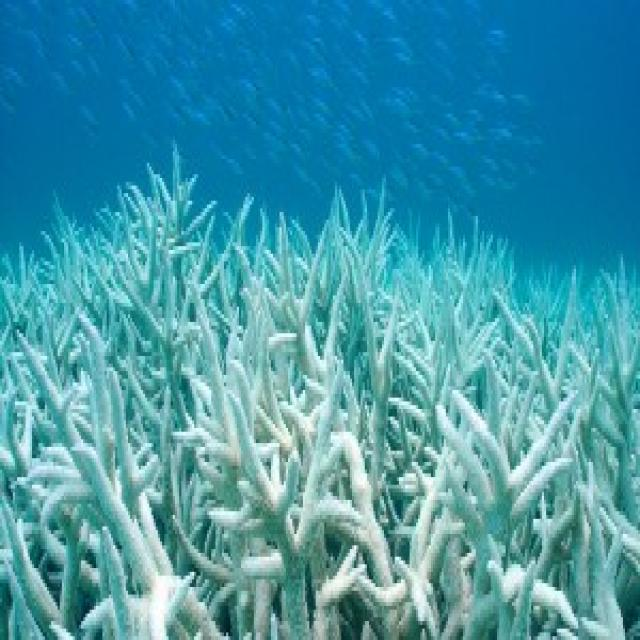Bleached: (1, 152, 639, 637), (197, 365, 391, 626), (50, 365, 172, 599), (494, 414, 594, 618)
